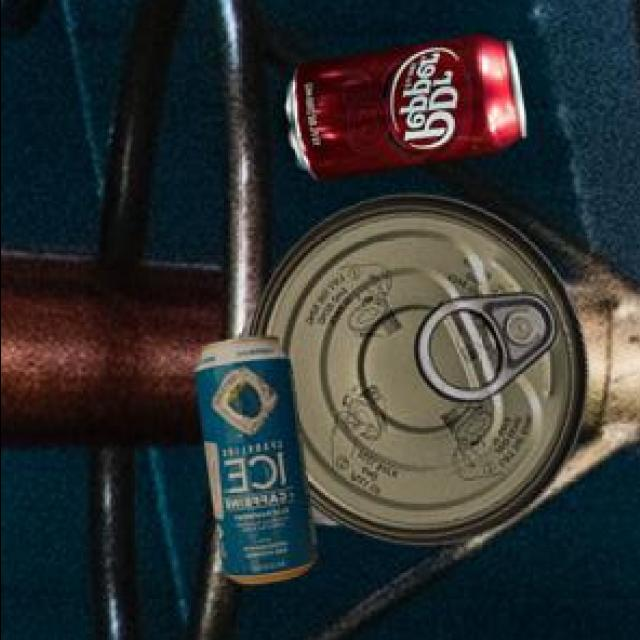logam: (235, 191, 583, 539), (284, 31, 522, 176), (191, 334, 315, 581)
